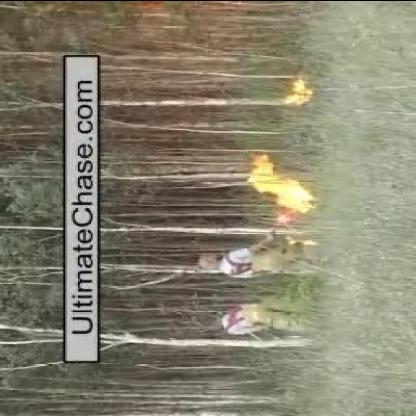foggia-v2-map80-epoch100 - v1 4323: (276, 172, 316, 224), (251, 152, 272, 192), (286, 80, 312, 104)
